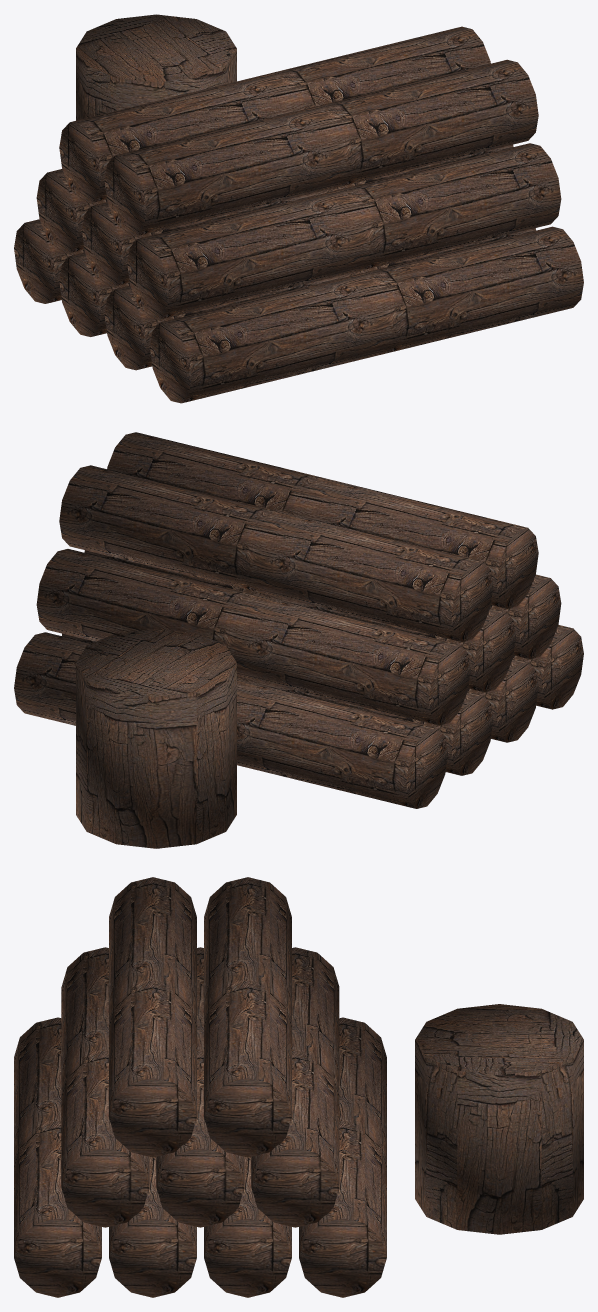
Rendered from prop_yard_woodpile.glb.
The picture shows the model from 3 angles, top to bottom: view 1: azimuth 30°, elevation 25°; view 2: azimuth 150°, elevation 25°; view 3: azimuth 270°, elevation 25°; orthographic projection. The views are drawn at different scales.
Parts seen in each view (by area): view 1: log.004, log, log.007, log.008, chop_block, log.005, log.001, log.006, log.003, log.002; view 2: log.008, log.006, chop_block, log.003, log.007, log.005, log.002, log, log.001, log.004; view 3: chop_block, log.007, log.008, log.004, log.006, log, log.003, log.005, log.001, log.002.
Part boxes in pixels (bbox=[...]): log.004: bbox=[127, 143, 561, 319]; log: bbox=[150, 226, 583, 403]; log.007: bbox=[104, 59, 538, 236]; log.008: bbox=[59, 26, 490, 203]; chop_block: bbox=[76, 14, 236, 120]; log.005: bbox=[82, 144, 513, 286]; log.001: bbox=[104, 228, 535, 370]; log.006: bbox=[36, 169, 107, 253]; log.003: bbox=[14, 219, 84, 303]; log.002: bbox=[59, 252, 129, 336]; log.008: bbox=[59, 465, 493, 641]; log.006: bbox=[36, 549, 470, 725]; chop_block: bbox=[76, 628, 236, 848]; log.003: bbox=[14, 632, 447, 808]; log.007: bbox=[107, 432, 538, 608]; log.005: bbox=[84, 550, 515, 692]; log.002: bbox=[62, 633, 493, 775]; log: bbox=[513, 625, 583, 709]; log.001: bbox=[468, 658, 538, 742]; log.004: bbox=[490, 574, 561, 659]; chop_block: bbox=[415, 1004, 583, 1234]; log.007: bbox=[109, 877, 196, 1157]; log.008: bbox=[204, 877, 291, 1157]; log.004: bbox=[61, 947, 149, 1227]; log.006: bbox=[251, 947, 339, 1227]; log: bbox=[14, 1017, 101, 1297]; log.003: bbox=[299, 1017, 386, 1297]; log.005: bbox=[156, 947, 244, 1227]; log.001: bbox=[109, 1156, 196, 1297]; log.002: bbox=[204, 1156, 291, 1297].
Bounding box in the file's own units: 1.35 × 0.695 × 1.62.
Materials: 2 (2 with a texture image).
